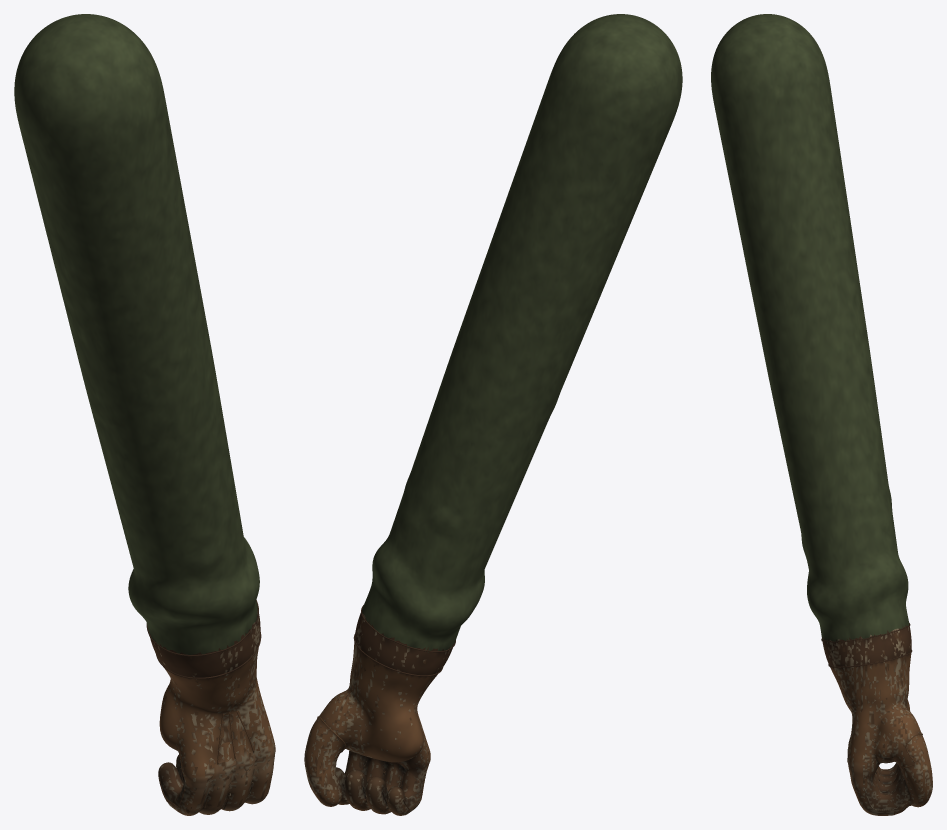
The model's file is hand.glb.
The picture shows the model from 3 angles, left to right: view 1: azimuth 30°, elevation 25°; view 2: azimuth 150°, elevation 25°; view 3: azimuth 270°, elevation 25°; orthographic projection. The views are drawn at different scales.
Visible parts, largest first — view 1: Sleeve, Glove; view 2: Sleeve, Glove; view 3: Sleeve, Glove.
Boxes of the visible parts, bbox=[...] form: Sleeve: bbox=[14, 14, 259, 654]; Glove: bbox=[146, 600, 275, 815]; Sleeve: bbox=[362, 14, 682, 652]; Glove: bbox=[304, 605, 455, 815]; Sleeve: bbox=[711, 14, 909, 642]; Glove: bbox=[821, 623, 932, 815].
Bounding box in the file's own units: 0.319 × 0.8412 × 0.2396.
